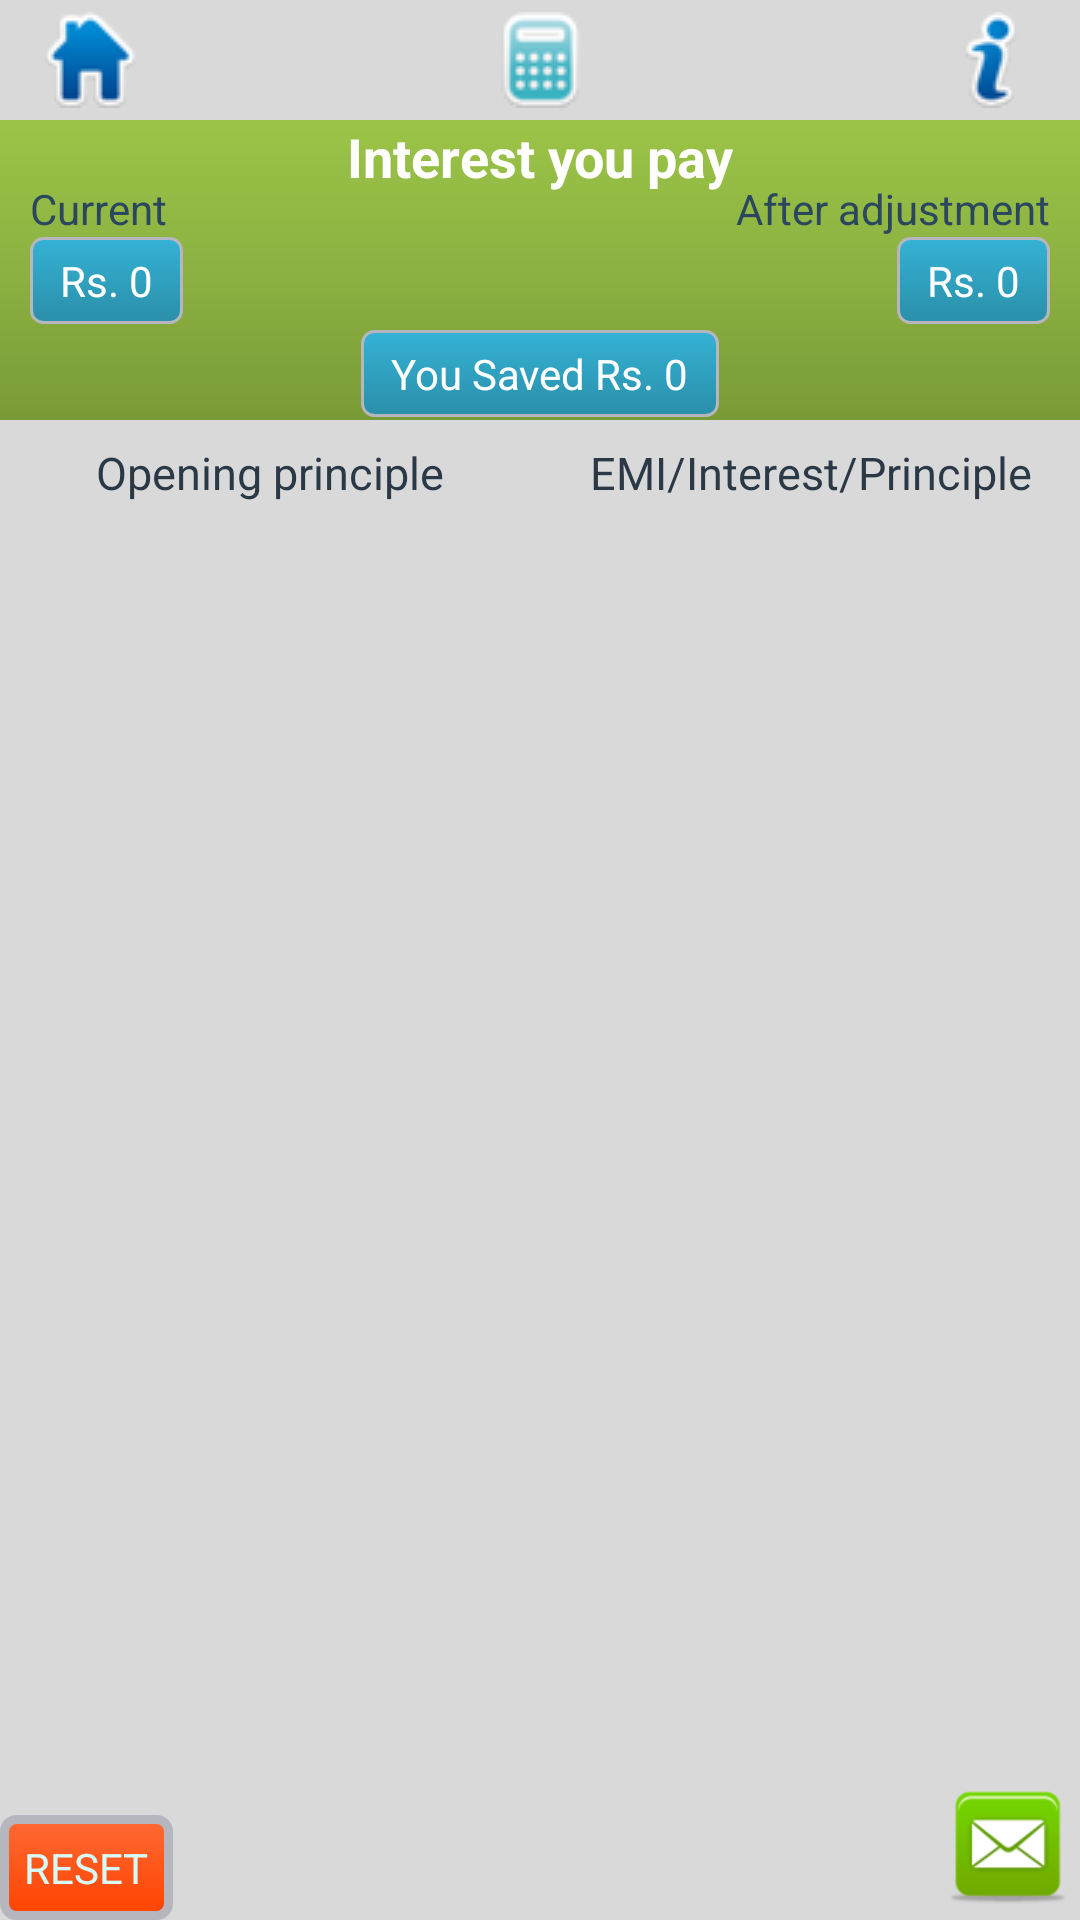

Where icons sit on this 1080x1920 app screen, as (x1, y1, x2, y2):
calculator: (505, 14, 576, 104)
home: (48, 15, 132, 104)
info: (968, 14, 1014, 104)
